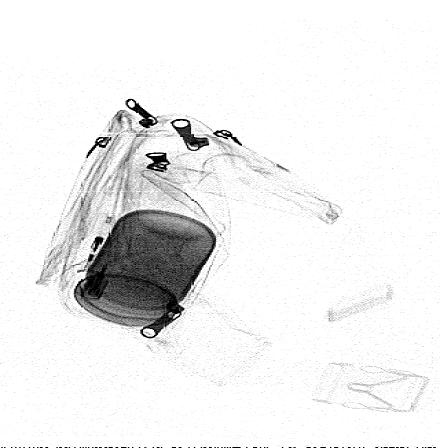Lighter: (76, 218, 129, 299)
